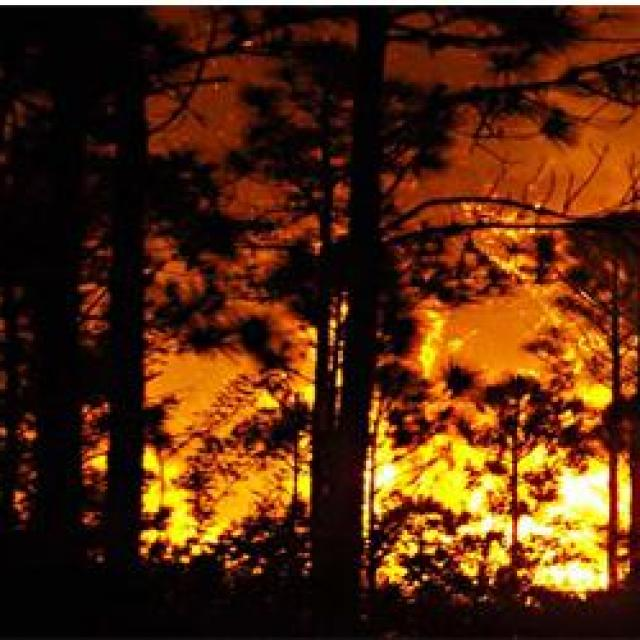fire: (362, 444, 634, 592), (140, 334, 304, 570)
